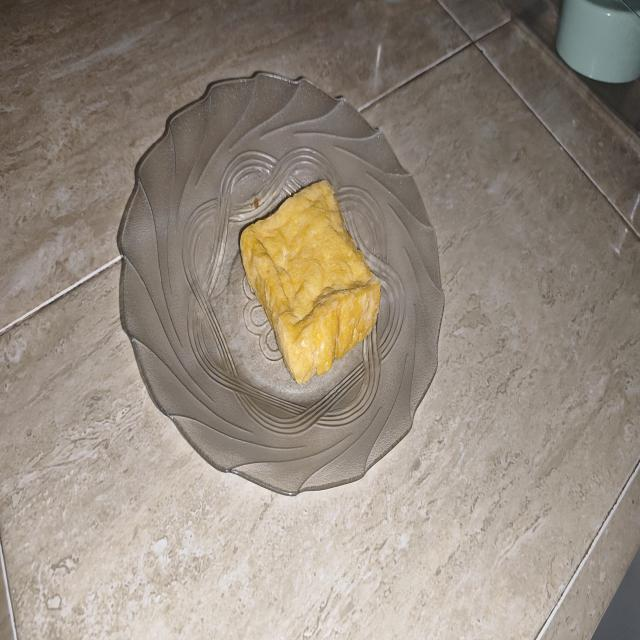tahu_goreng: (240, 180, 380, 383)
